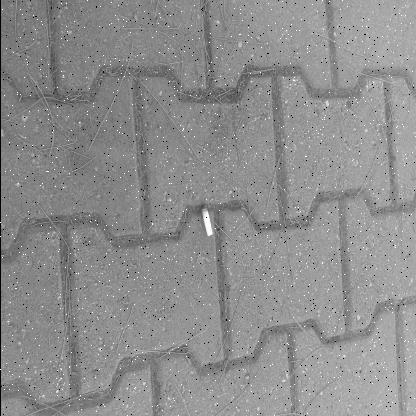other: (200, 206, 212, 236)
